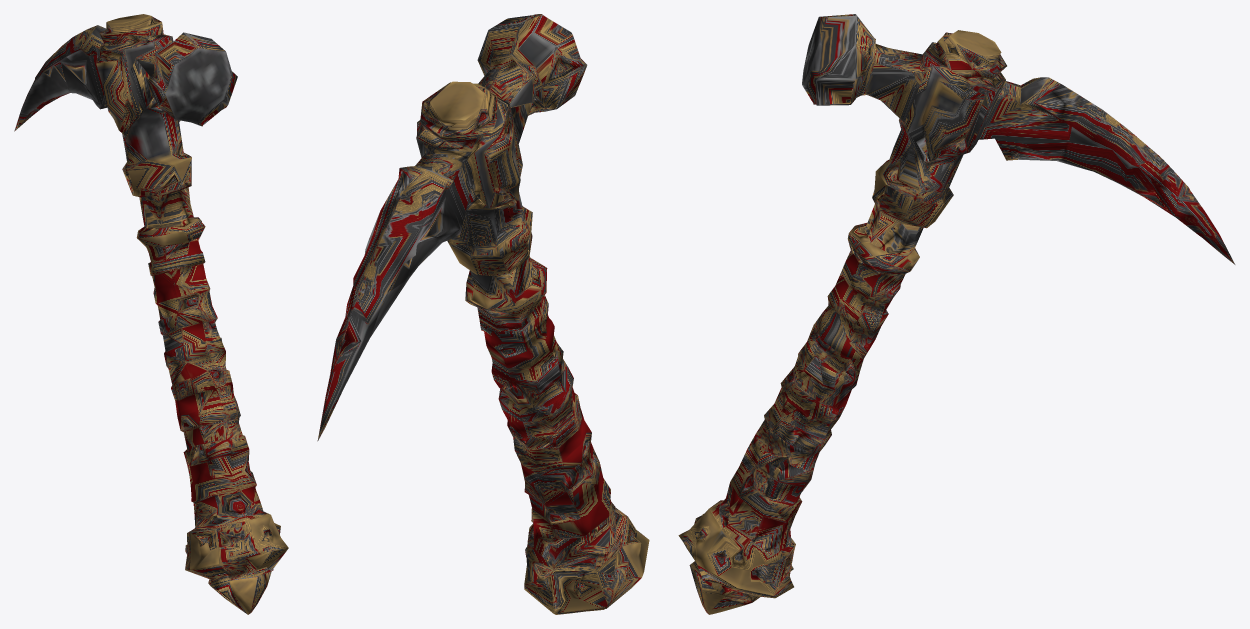
The model's file is w_war_pick.glb.
3 views of the same model, side by side, from view 1: azimuth 30°, elevation 25°; view 2: azimuth 150°, elevation 25°; view 3: azimuth 270°, elevation 25° (orthographic). The views are drawn at different scales.
Size of the model in its own units: 0.1838 by 1 by 0.8463.
1 material, 1 textured.
